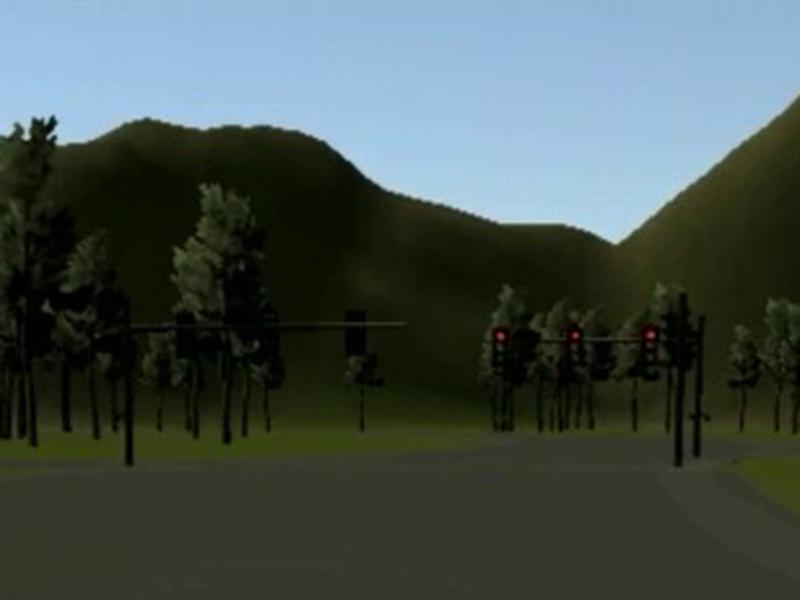Red: (566, 327, 587, 367), (640, 323, 659, 366), (492, 325, 510, 363)
